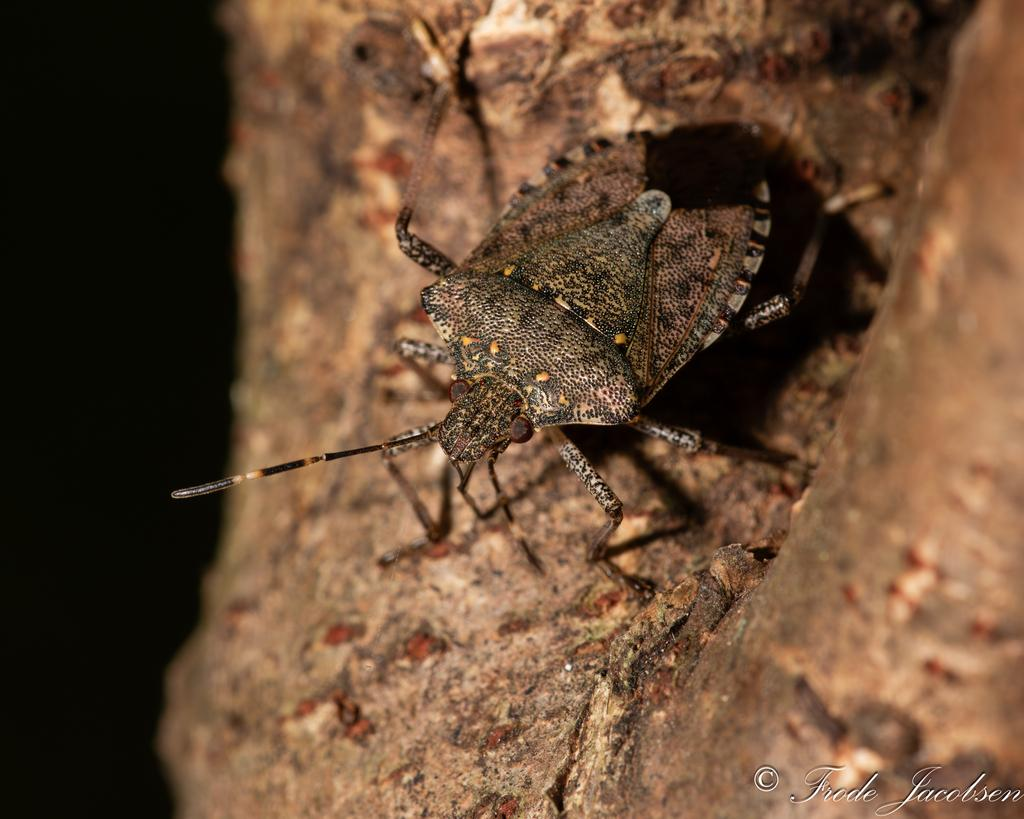stink_bugs: (101, 0, 926, 681)
